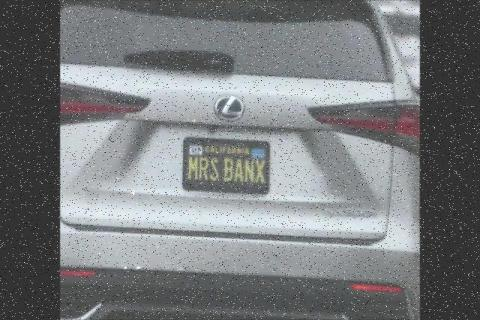LicensePlate: (184, 138, 270, 193)
